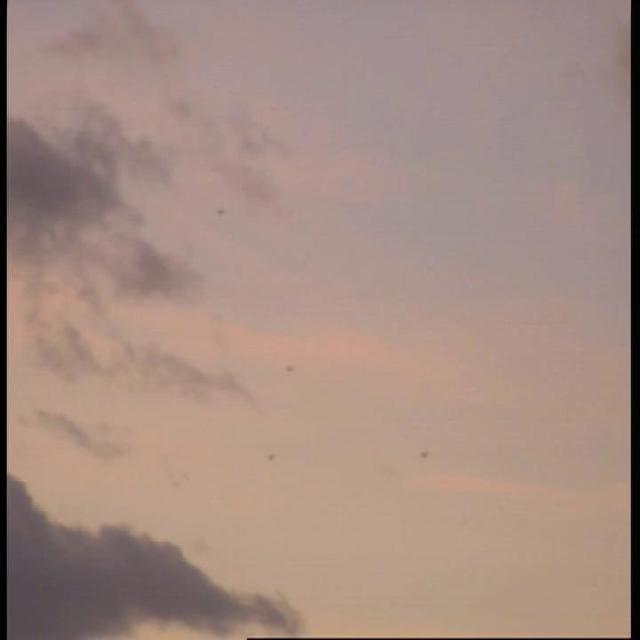drone: (212, 200, 232, 223), (280, 359, 302, 377), (263, 448, 278, 466), (417, 446, 432, 464)
